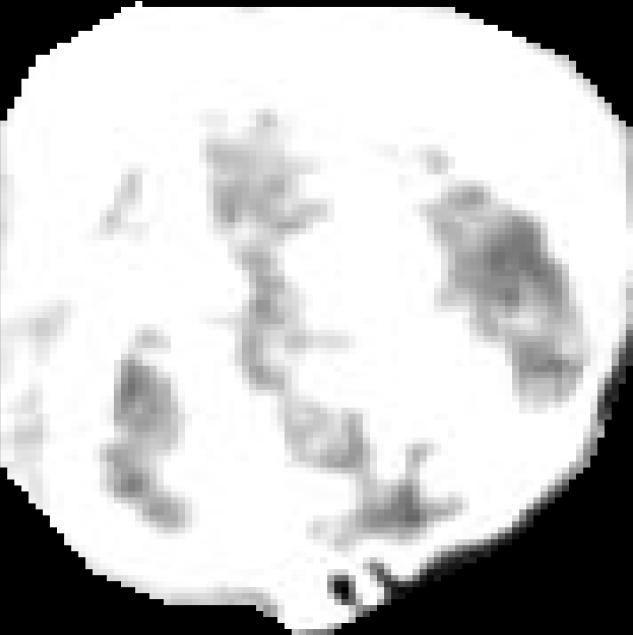tumor_moderate_chance: (0, 1, 633, 635)
